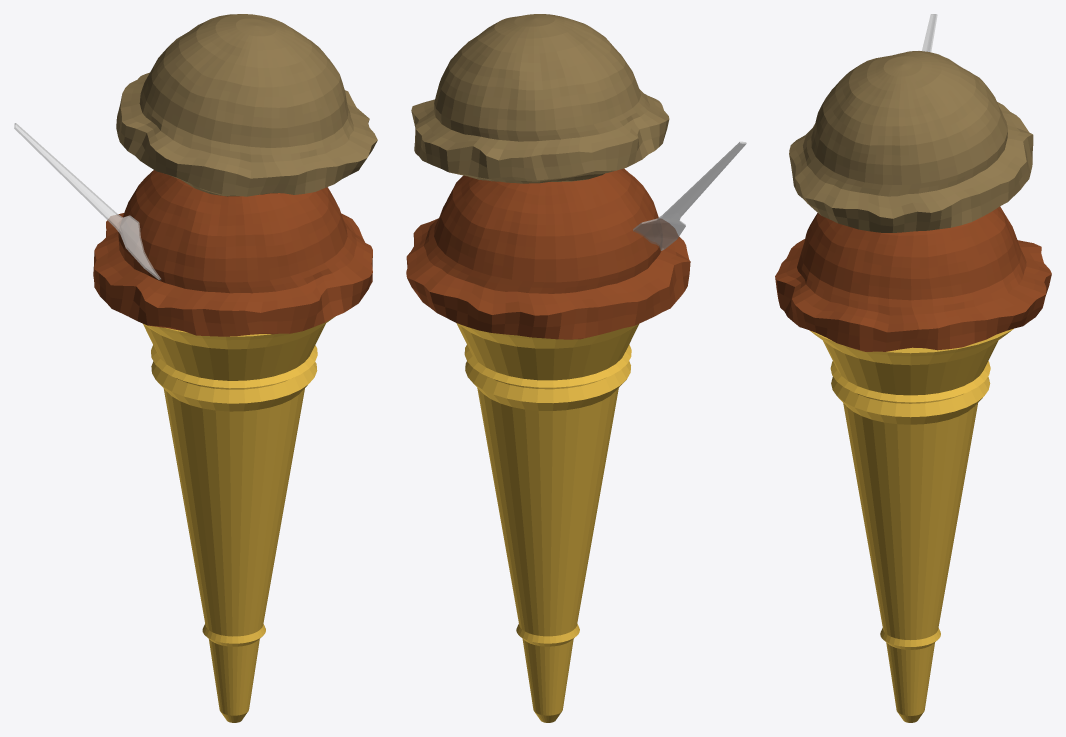
File: ice_chocolate.glb
The picture shows the model from 3 angles, left to right: view 1: azimuth 30°, elevation 25°; view 2: azimuth 150°, elevation 25°; view 3: azimuth 270°, elevation 25°; orthographic projection. The views are drawn at different scales.
Parts seen in each view (by area): view 1: corn, ice, ice.001, 平面; view 2: ice, corn, ice.001, 平面; view 3: corn, ice.001, ice.
Part boxes in pixels (x1,y1,x2,y2): corn: [143, 316, 335, 722]; ice: [93, 170, 372, 336]; ice.001: [116, 14, 377, 196]; 平面: [14, 123, 161, 280]; ice: [406, 168, 690, 339]; corn: [456, 323, 638, 722]; ice.001: [411, 14, 669, 183]; 平面: [633, 141, 746, 250]; corn: [809, 328, 1013, 722]; ice.001: [789, 51, 1033, 232]; ice: [775, 206, 1051, 351].
Bounding box in the file's own units: 2.31 × 4.58 × 1.73.
